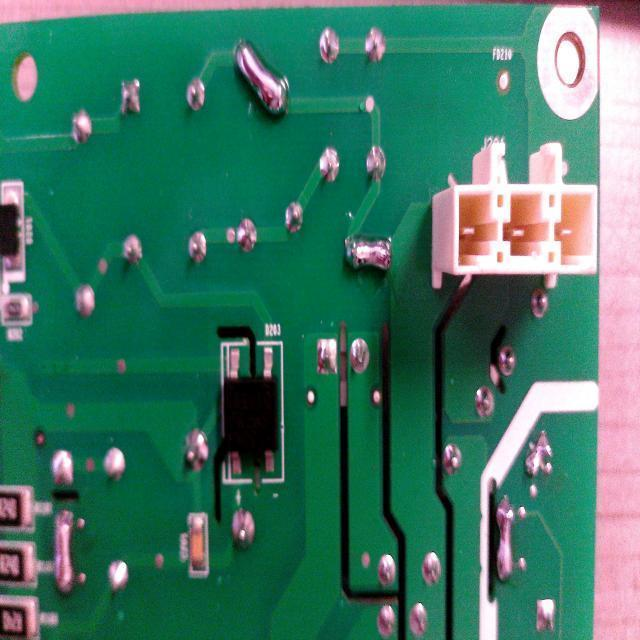Soldering shorted: (232, 32, 292, 126), (338, 232, 398, 279), (51, 506, 78, 606), (494, 494, 517, 594), (520, 422, 552, 483)
